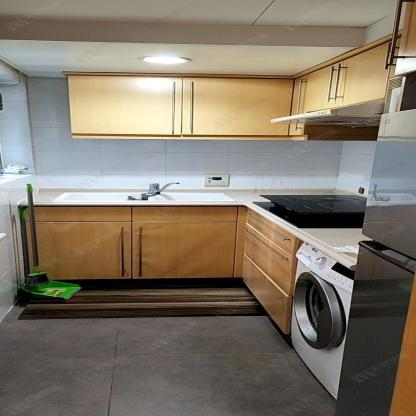Cupboard: (60, 31, 402, 139), (20, 207, 301, 337)
Exhaust Hood: (269, 97, 387, 127)
Faucet: (145, 179, 180, 194)
Fridge: (333, 108, 416, 416)
Sink: (48, 191, 238, 202)
Stove: (250, 193, 367, 228)
Washing Machine: (283, 242, 358, 404)
